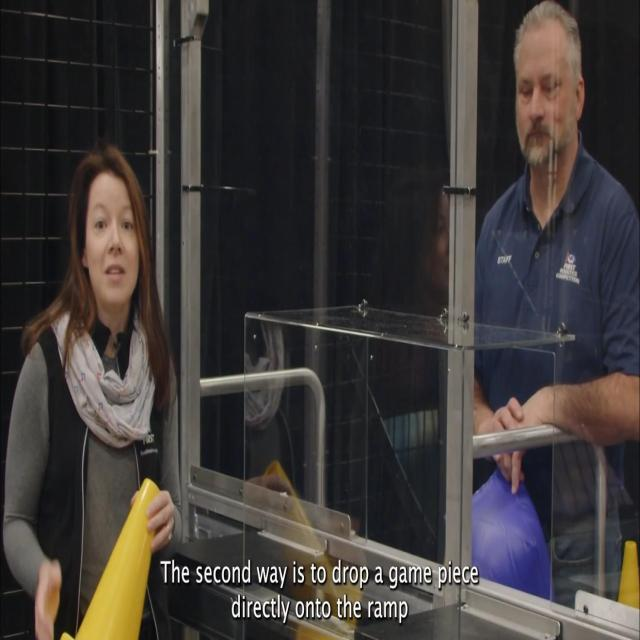frc_cone: (60, 475, 161, 639), (618, 535, 640, 611)
frc_cube: (472, 474, 562, 608)
